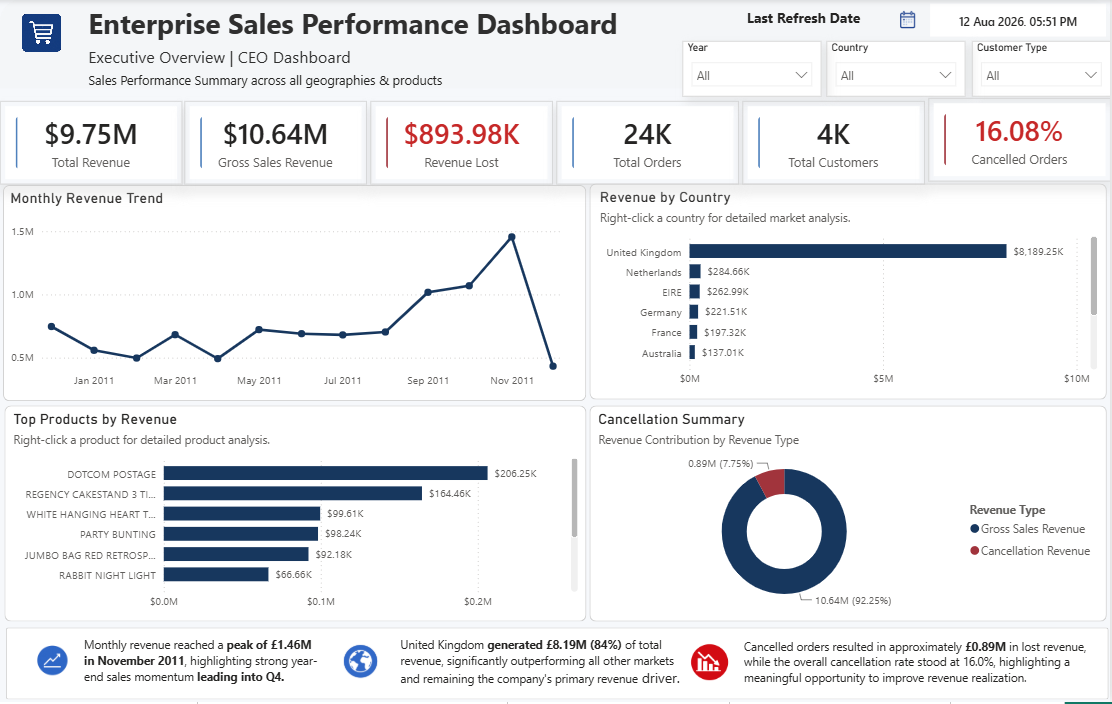

What the dashboard file says about the page in this screenshot:
{"tool":"powerbi","page":{"name":"Executive Overview","canvas":[1280,810],"ordinal":0},"visuals":[{"type":"shape","box":[0,0,1280,103],"z":0},{"type":"slicer","title":"Customer Type","fields":{"Values":["analytics_sales.CustomerType"]},"box":[1118.6,48.1,160,64],"z":0,"group":"g7"},{"type":"cardVisual","fields":{"Data":["_measure_table.Total Revenue"]},"box":[0,117,210,96],"z":0,"group":"g8"},{"type":"shape","box":[679,213,596,249],"z":0,"group":"g5"},{"type":"shape","box":[4.9,468,670.4,248.9],"z":0,"group":"g4"},{"type":"shape","box":[678.5,468,596,249],"z":0,"group":"g3"},{"type":"image","box":[0,0,96,80],"z":1000},{"type":"slicer","title":"Country","fields":{"Values":["analytics_sales.Country"]},"box":[951.6,48.1,160,64],"z":1000,"group":"g7"},{"type":"cardVisual","fields":{"Data":["_measure_table.Gross Sales Revenue"]},"box":[213,117.3,210,96],"z":1000,"group":"g8"},{"type":"clusteredBarChart","title":"Revenue by Country","fields":{"Category":["analytics_sales.Country"],"Y":["_measure_table.Total Revenue"]},"box":[686,219,583,238],"z":1000,"group":"g5"},{"type":"clusteredBarChart","title":"Top Products by Revenue","fields":{"Y":["_measure_table.Total Revenue"],"Category":["analytics_sales.Description"]},"box":[9.6,473.6,660.2,238.4],"z":1000,"group":"g4"},{"type":"textbox","box":[96,0,640,80],"z":2000},{"type":"slicer","title":"Year","fields":{"Values":["dim_date.Year"]},"box":[785.6,48.1,160,64],"z":2000,"group":"g7"},{"type":"cardVisual","fields":{"Data":["_measure_table.Cancellation Revenue"]},"box":[427,117,210,96],"z":2000,"group":"g8"},{"type":"textbox","box":[96.2,48.1,415.3,48.1],"z":3000},{"type":"cardVisual","fields":{"Data":["_measure_table.Total Orders"]},"box":[641,117,210,96],"z":3000,"group":"g8"},{"type":"group","id":"g1","title":"Group 2","box":[4.9,468,670.4,248.9],"z":3014,"group":"g6"},{"type":"group","id":"g2","title":"Group 1","box":[678.5,468,596,249],"z":3014,"group":"g9"},{"type":"group","id":"g3","title":"Group 2","box":[678.5,468,596,249],"z":3014,"group":"g2"},{"type":"donutChart","title":"Cancellation Summary","fields":{"Category":["Revenue Type.Revenue Type"],"Y":["_measure_table.Revenue by Type"]},"box":[683.4,472.9,585.8,237.6],"z":3022,"group":"g9"},{"type":"group","id":"g4","title":"Group 5","box":[4.9,468,670.4,248.9],"z":3028,"group":"g1"},{"type":"cardVisual","fields":{"Data":["_measure_table.Total Customers"]},"box":[856,117,210,96],"z":4000,"group":"g8"},{"type":"shape","box":[3,214,672,249],"z":4000},{"type":"cardVisual","fields":{"Data":["_measure_table.Cancellation Rate"]},"box":[1069,114,210,96],"z":5000,"group":"g8"},{"type":"lineChart","title":"Monthly Revenue Trend","fields":{"Y":["_measure_table.Monthly Revenue"],"Category":["dim_date.YearMonth.Variation.Date Hierarchy.Year","dim_date.YearMonth.Variation.Date Hierarchy.Quarter","dim_date.YearMonth.Variation.Date Hierarchy.Month","dim_date.YearMonth.Variation.Date Hierarchy.Day"]},"box":[7,219,661,238],"z":5000},{"type":"group","id":"g5","title":"Group 1","box":[679,213,596,249],"z":6000},{"type":"group","id":"g6","title":"Group 1","box":[4.9,468,670.4,248.9],"z":7000},{"type":"cardVisual","fields":{"Data":["_measure_table.Last Refresh Date"]},"box":[1066.2,0,213.2,48.1],"z":8000},{"type":"group","id":"g7","title":"Group 3","box":[785.6,48.1,493.8,64.1],"z":9000},{"type":"textbox","box":[96.2,78.6,481,32.1],"z":10000},{"type":"group","id":"g8","title":"Group 4","box":[0,114,1279,99.3],"z":11000},{"type":"textbox","box":[856.2,6,174.8,40.1],"z":12000},{"type":"image","box":[1012,6.4,65.7,35.3],"z":13000},{"type":"group","id":"g9","title":"Group 6","box":[678.5,468,596,249],"z":14000},{"type":"shape","box":[6.9,724.2,1270.3,83],"z":15000},{"type":"textbox","box":[91.6,729.4,283.4,70.9],"z":16000},{"type":"image","box":[29.4,732.8,62.2,62.2],"z":17000},{"type":"textbox","box":[456.3,729.4,335.3,70.9],"z":18000},{"type":"textbox","box":[852.1,731.1,421.7,70.9],"z":19000},{"type":"image","box":[375.1,729.4,81.2,72.6],"z":20000},{"type":"image","box":[791.6,732.8,51.9,65.7],"z":21000}]}

Visuals, with their boxes in screenshot pixels (x1, y1, x2, y2), scaled from the page's 1280x810 canvas onto the 1112x704 screenshot:
shape: 0:0:1111:90
"Customer Type" slicer: 972:42:1111:97
cardVisual - _measure_table.Total Revenue: 0:102:182:185
shape: 590:185:1108:402
shape: 4:407:587:623
shape: 589:407:1107:623
image: 0:0:83:70
"Country" slicer: 827:42:966:97
cardVisual - _measure_table.Gross Sales Revenue: 185:102:367:185
"Revenue by Country" clusteredBarChart: 596:190:1102:397
"Top Products by Revenue" clusteredBarChart: 8:412:582:619
textbox: 83:0:639:70
"Year" slicer: 682:42:821:97
cardVisual - _measure_table.Cancellation Revenue: 371:102:553:185
textbox: 84:42:444:84
cardVisual - _measure_table.Total Orders: 557:102:739:185
"Group 2" group: 4:407:587:623
"Group 1" group: 589:407:1107:623
"Group 2" group: 589:407:1107:623
"Cancellation Summary" donutChart: 594:411:1103:618
"Group 5" group: 4:407:587:623
cardVisual - _measure_table.Total Customers: 744:102:926:185
shape: 3:186:586:402
cardVisual - _measure_table.Cancellation Rate: 929:99:1111:183
"Monthly Revenue Trend" lineChart: 6:190:580:397
"Group 1" group: 590:185:1108:402
"Group 1" group: 4:407:587:623
cardVisual - _measure_table.Last Refresh Date: 926:0:1111:42
"Group 3" group: 682:42:1111:98
textbox: 84:68:501:96
"Group 4" group: 0:99:1111:185
textbox: 744:5:896:40
image: 879:6:936:36
"Group 6" group: 589:407:1107:623
shape: 6:629:1110:702
textbox: 80:634:326:696
image: 26:637:80:691
textbox: 396:634:688:696
textbox: 740:635:1107:697
image: 326:634:396:697
image: 688:637:733:694
